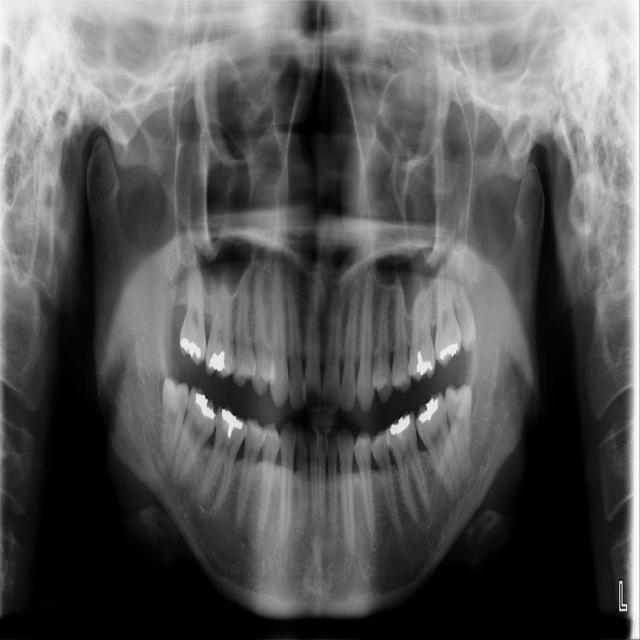52: (175, 382, 230, 441), (201, 403, 254, 459), (378, 410, 430, 463), (412, 391, 451, 451), (202, 334, 241, 381), (177, 313, 209, 367), (434, 314, 462, 367), (409, 332, 436, 383), (367, 428, 394, 466)
73: (612, 578, 618, 586)
BioHorizons Implant: (434, 258, 465, 369)
BioLife Implant: (447, 255, 480, 354)
Biomet 3i Implant: (444, 383, 473, 480)
Blue Sky Bio Implant: (410, 390, 465, 507)
Caries: (180, 253, 207, 367)
Implant: (169, 386, 224, 490)
Keystone Dental Implant: (155, 374, 192, 475)
